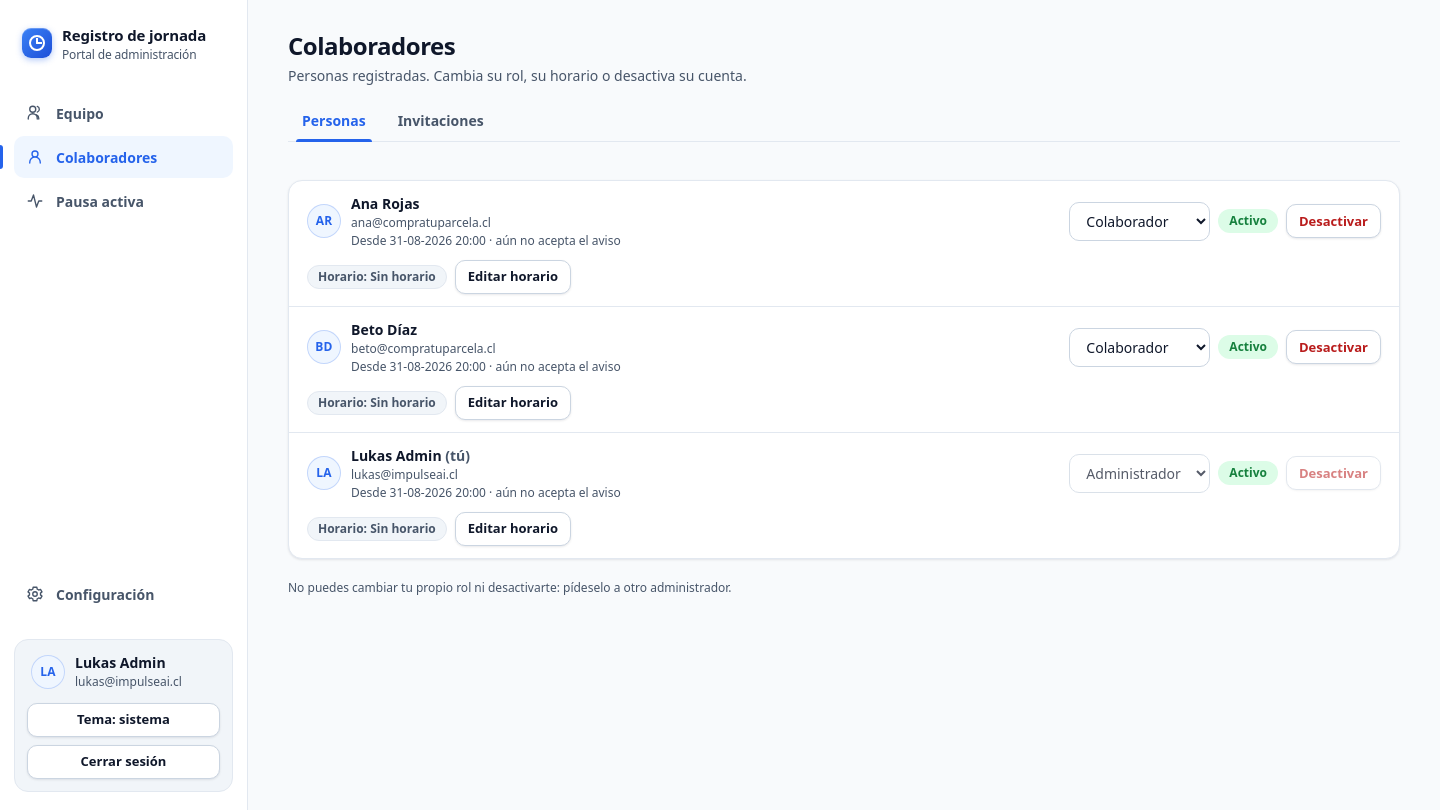
Colaboradores page › asks for confirmation and cannot change oneself
Check: the dropdown named "Rol de Lukas Admin" is disabled, box [1069,454,1210,493]
Check: the button "Desactivar" in the row of "(tú)" is disabled, box [1286,456,1381,490]
Click the button "Desactivar" in the row of "BD" at {"x": 1333, "y": 347}, box [1286,330,1381,364]
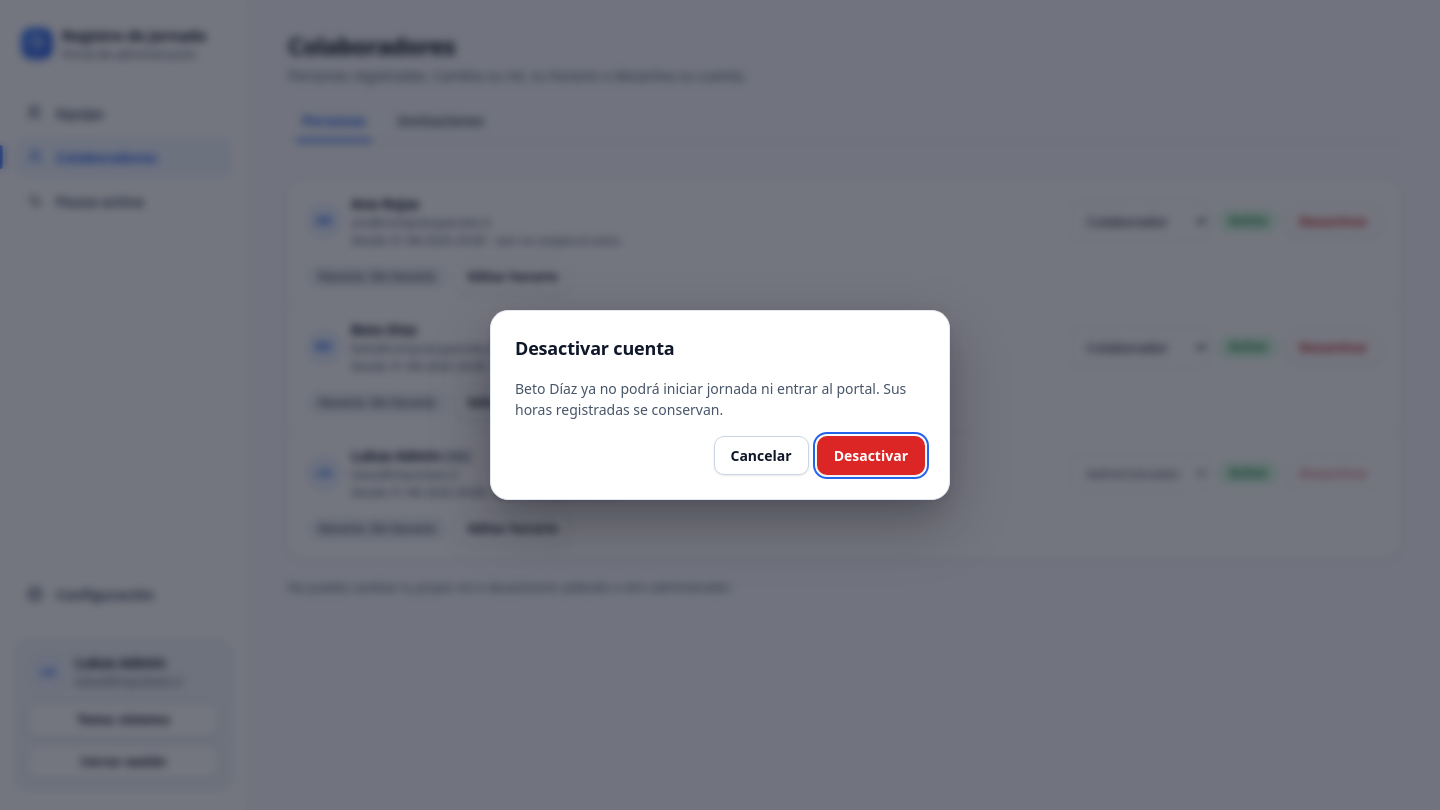
Click the button "Cancelar" at {"x": 761, "y": 456}, box [714,436,809,475]
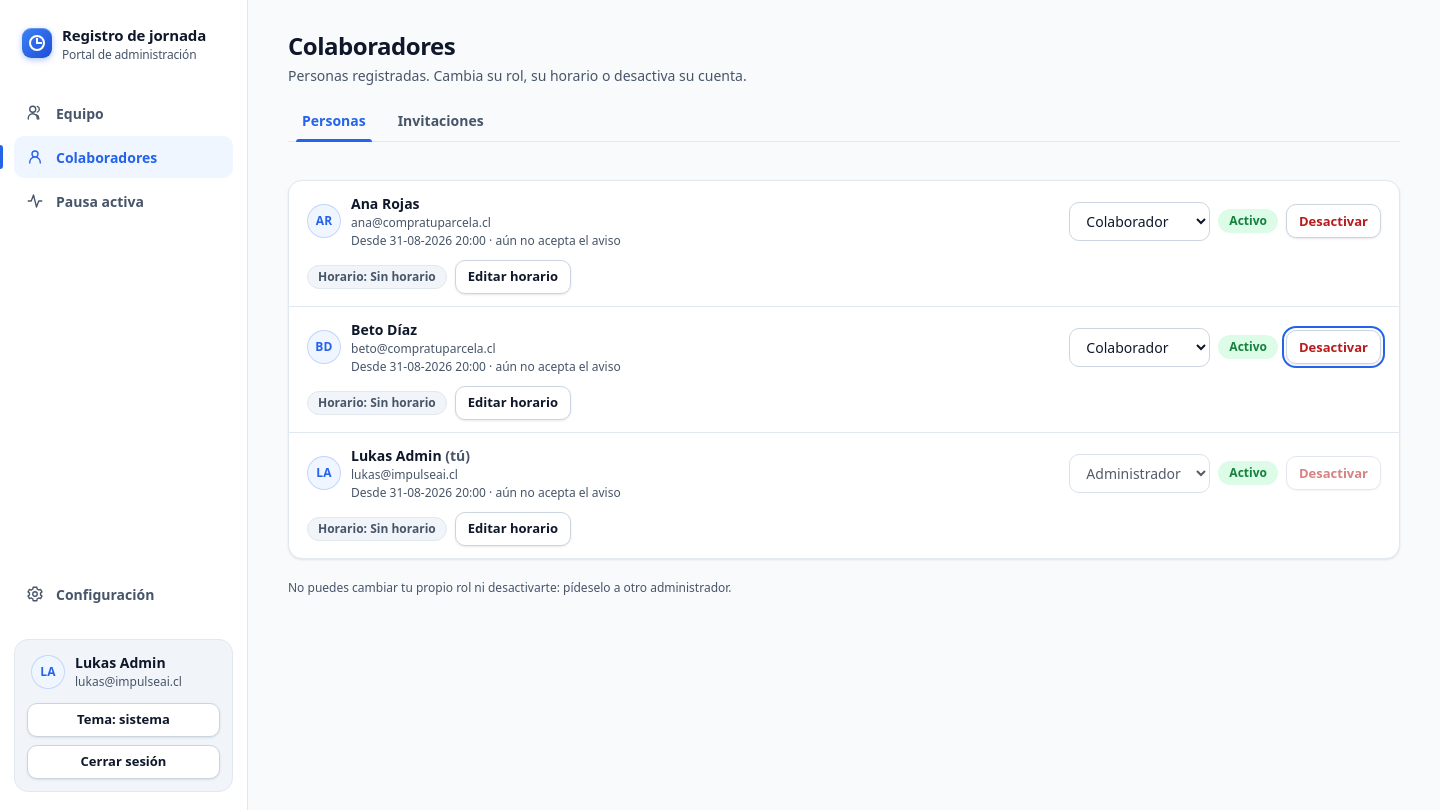
Select "Administrador" in the dropdown named "Rol de Beto Díaz" in the row of "BD" at {"x": 1140, "y": 347}, box [1069,328,1210,367]
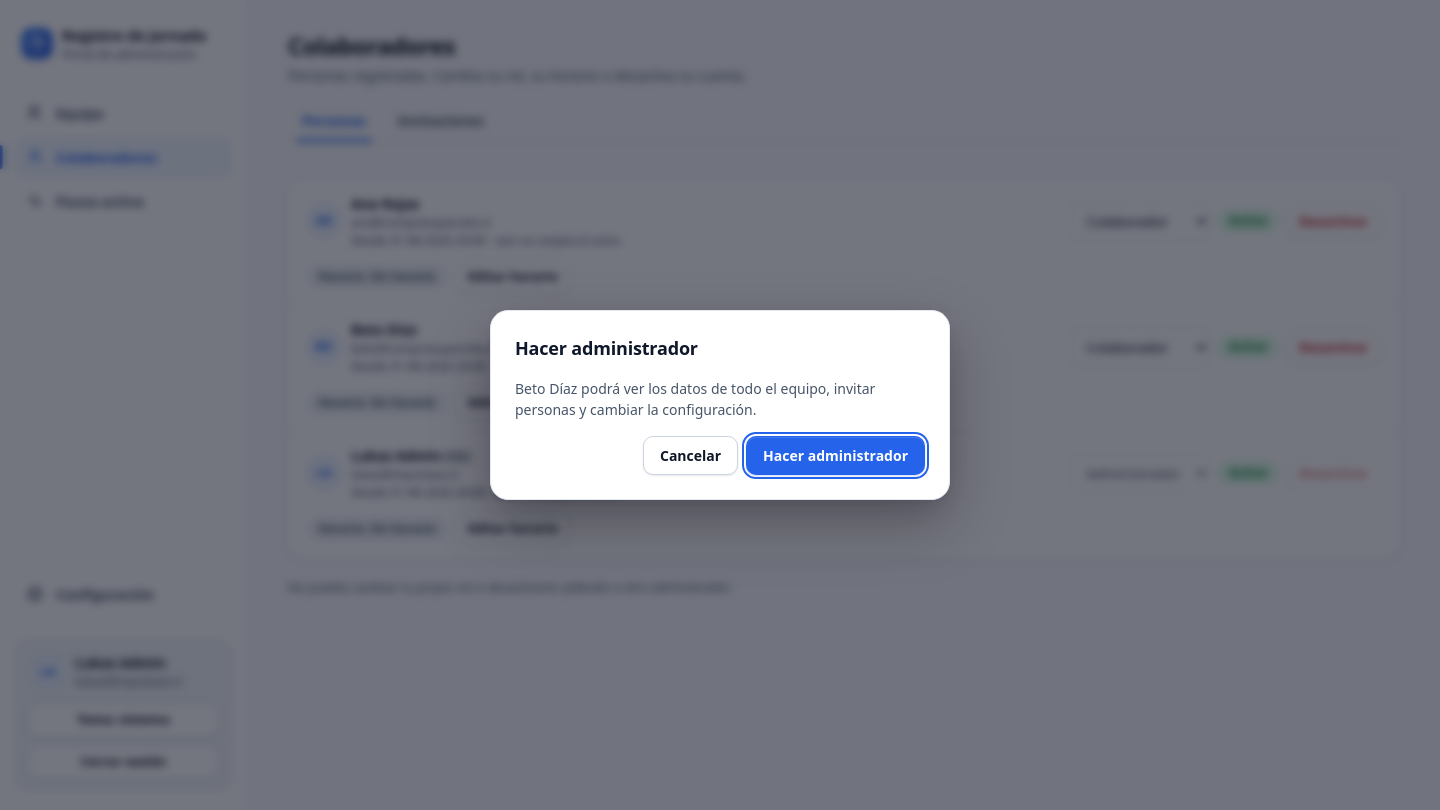
Click the button "Hacer administrador" at {"x": 836, "y": 456}, box [746,436,925,475]
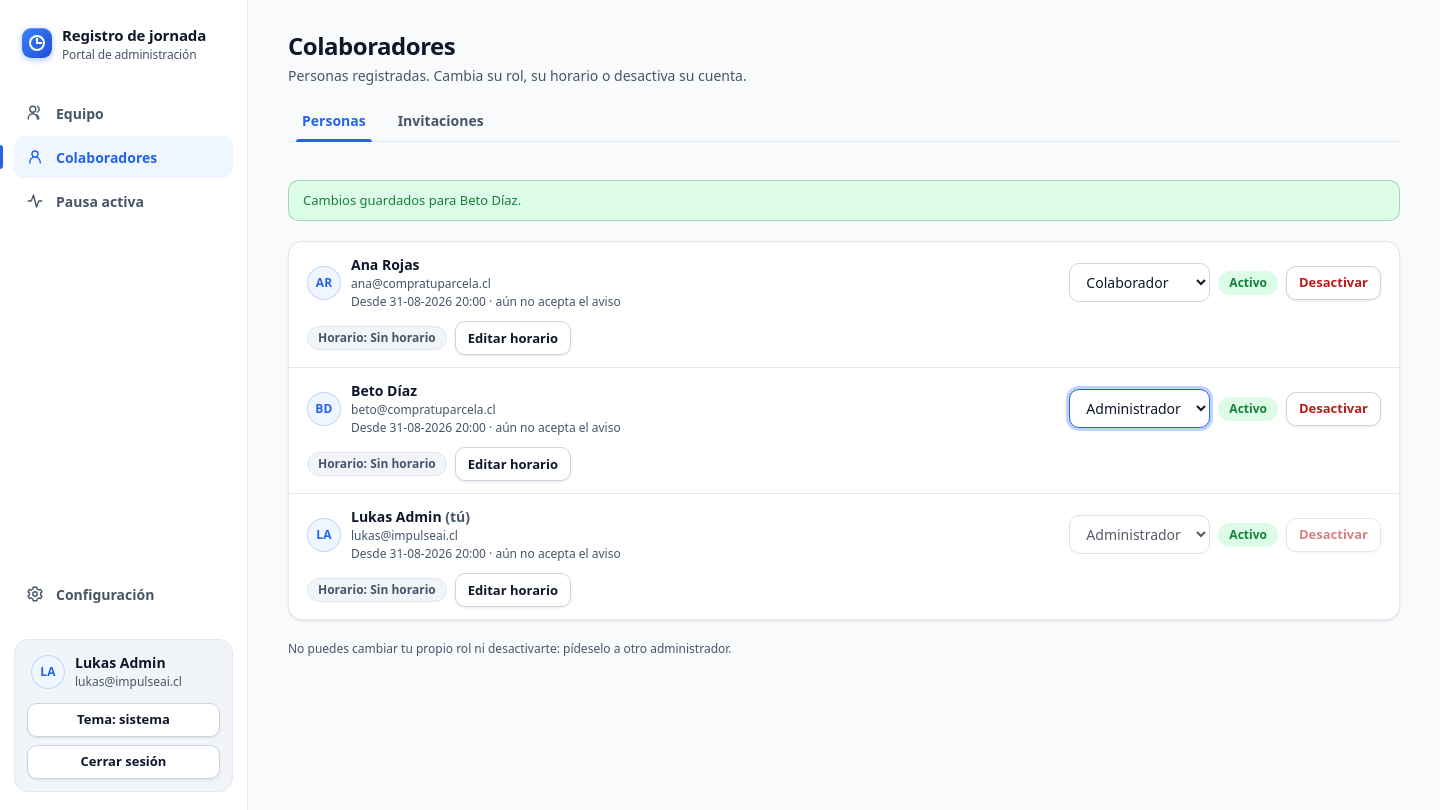
Check: the text "Cambios guardados para Beto Díaz." is shown, box [288,180,1400,221]
